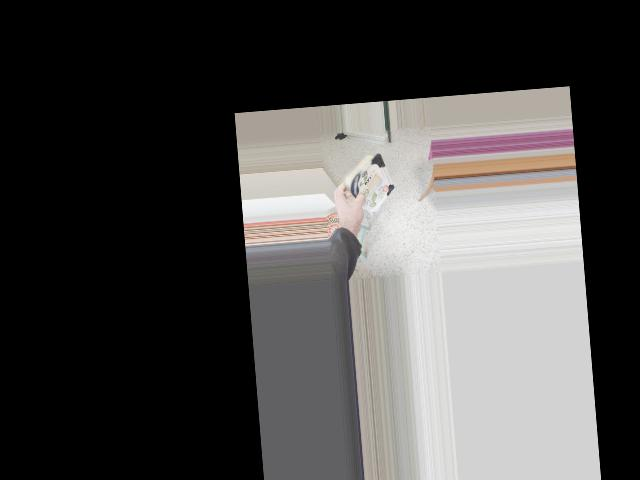cheese: (325, 151, 403, 212)
